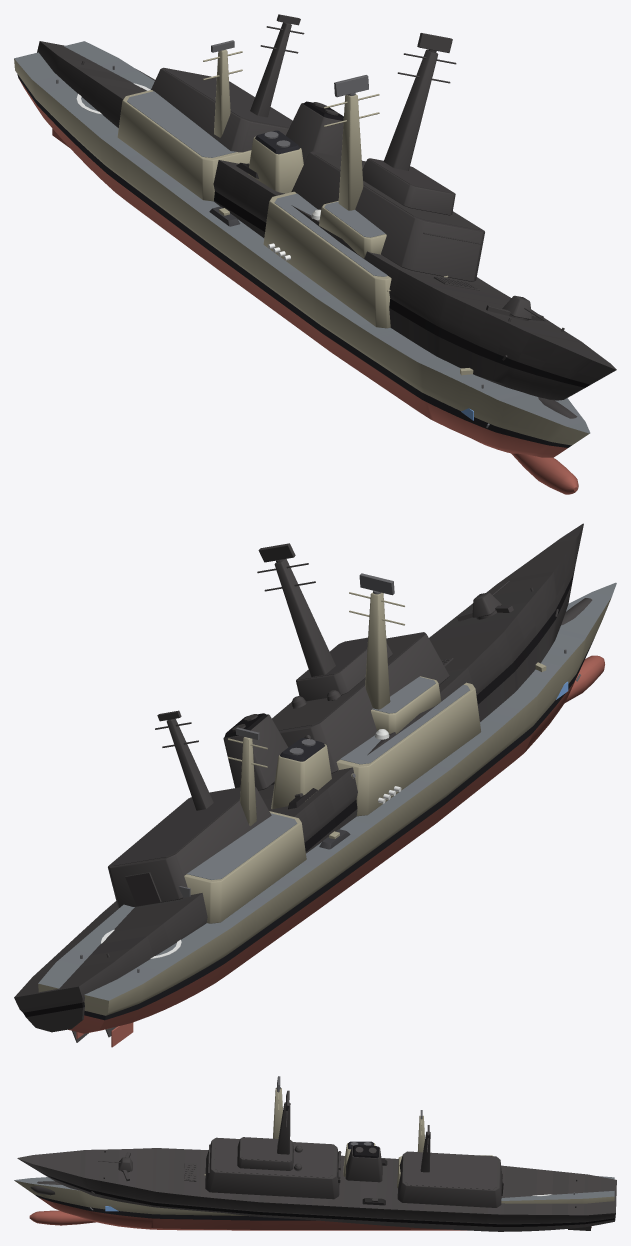
Rendered from asFrigate__type_23.glb.
The picture shows the model from 3 angles, top to bottom: view 1: azimuth 30°, elevation 25°; view 2: azimuth 150°, elevation 25°; view 3: azimuth 270°, elevation 25°; orthographic projection. The views are drawn at different scales.
Visible parts, largest first — view 1: Hull_Mesh, Wreck; view 2: Hull_Mesh, Wreck; view 3: Wreck, Hull_Mesh.
Boxes of the visible parts, left/top/right/bottom form: Hull_Mesh: left=14, top=40, right=590, bottom=494; Wreck: left=37, top=14, right=616, bottom=418; Hull_Mesh: left=38, top=582, right=616, bottom=1047; Wreck: left=14, top=523, right=592, bottom=1042; Wreck: left=17, top=1090, right=616, bottom=1231; Hull_Mesh: left=14, top=1088, right=614, bottom=1230.
Size of what is drawn, in the model's own units: 24.61 by 40.03 by 139.
